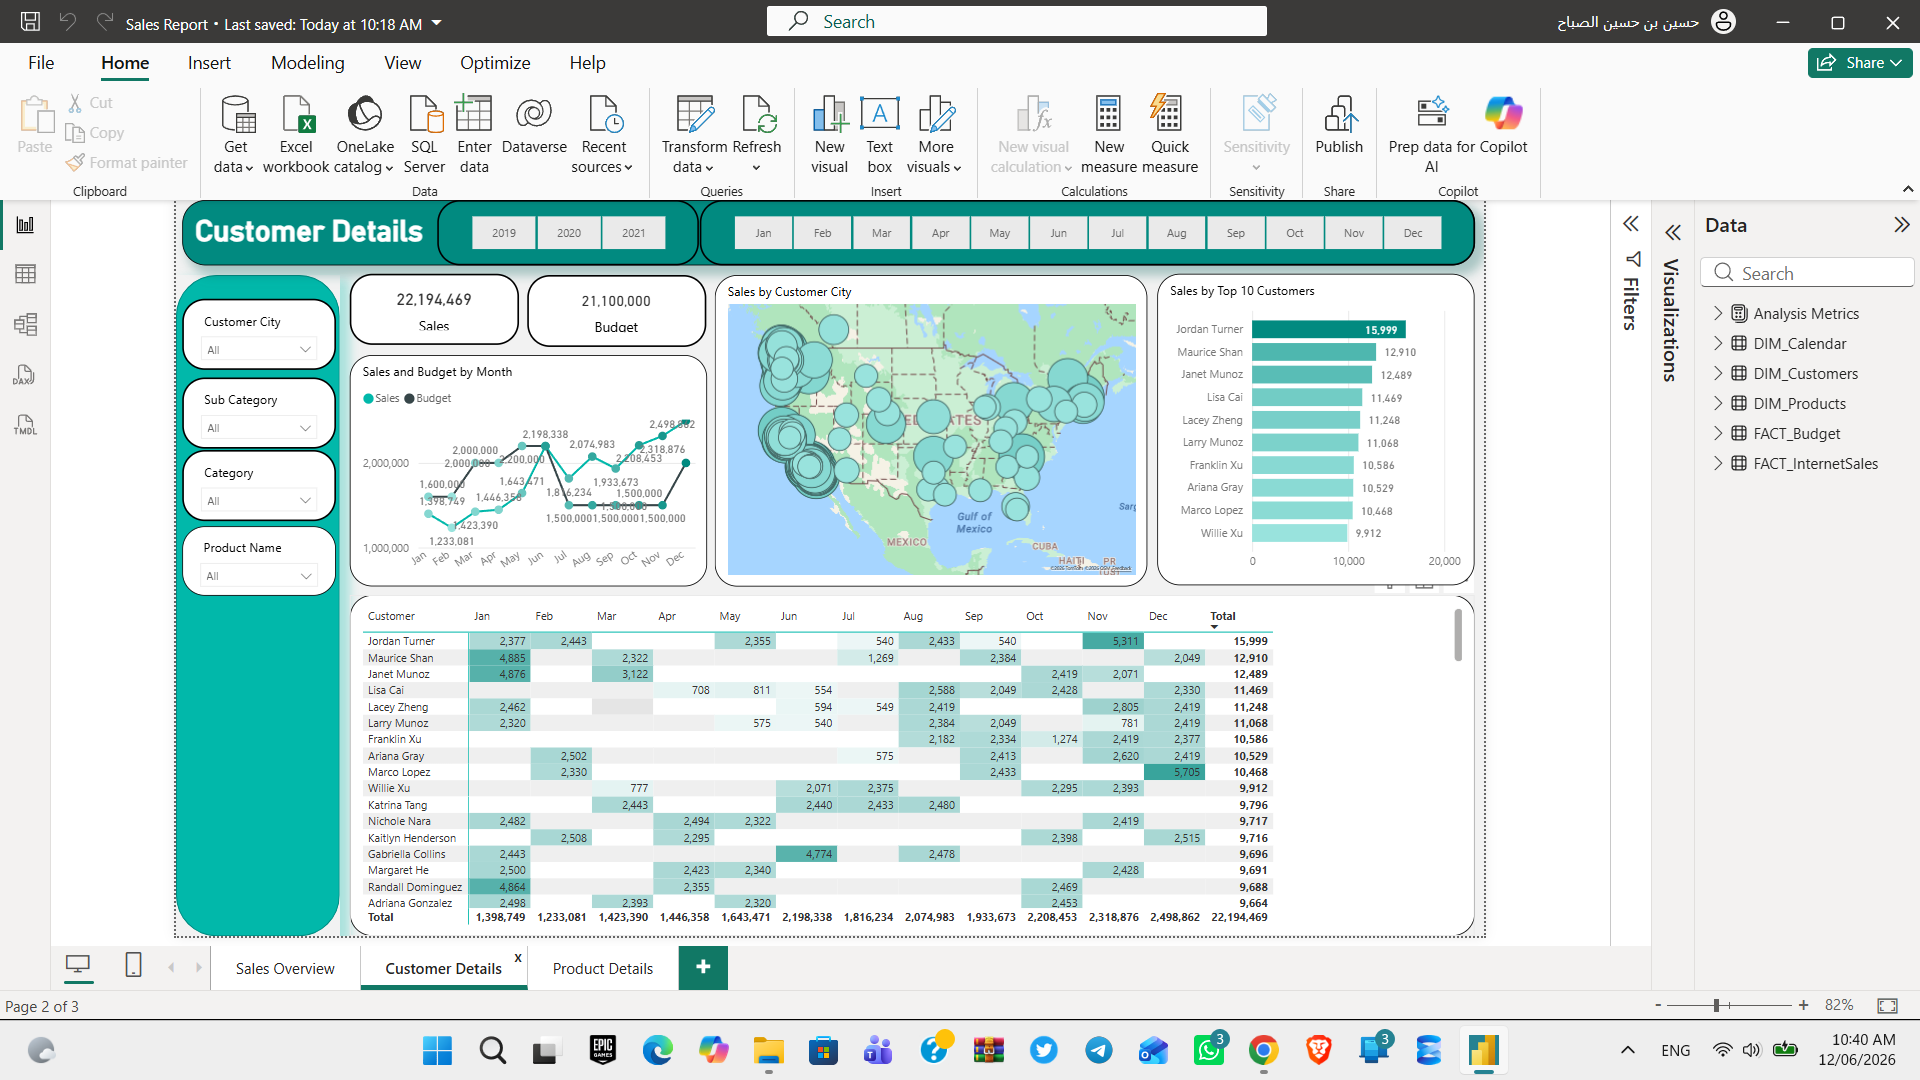

The dashboard page shown, as its layout file describes it:
{"tool":"powerbi","page":{"name":"Customer Details","canvas":[1280,720],"ordinal":1},"visuals":[{"type":"shape","box":[0,73.1,160.2,646.9],"z":0},{"type":"textbox","box":[5.6,0,1264.7,64],"z":1000},{"type":"slicer","fields":{"Values":["DIM_Calendar.Year"]},"box":[256,0,256,64],"z":2000},{"type":"slicer","fields":{"Values":["DIM_Calendar.MonthShort"]},"box":[512,0,758.3,64],"z":3000},{"type":"slicer","fields":{"Values":["DIM_Customers.Customer City"]},"box":[5.6,96,150.3,69.6],"z":4000},{"type":"slicer","fields":{"Values":["DIM_Products.Product Category"]},"box":[5.6,244.9,150.3,69.6],"z":5000},{"type":"slicer","fields":{"Values":["DIM_Products.Product Name"]},"box":[5.6,318.6,150.3,68.2],"z":6000},{"type":"slicer","fields":{"Values":["DIM_Products.Sub Category"]},"box":[5.6,173.9,150.3,69.6],"z":7000},{"type":"lineChart","fields":{"Category":["DIM_Calendar.MonthShort"],"Y":["Analysis Metrics.Sales","Analysis Metrics.Budget"]},"box":[169.7,151.7,349.2,226.8],"z":8000},{"type":"card","fields":{"Values":["Analysis Metrics.Sales"]},"box":[169.7,72.3,165.6,69.6],"z":9000},{"type":"azureMap","fields":{"Category":["DIM_Customers.Customer City"],"Size":["Analysis Metrics.Sales"]},"box":[527.3,72.8,423.5,304.5],"z":10000},{"type":"card","fields":{"Values":["Analysis Metrics.Budget"]},"box":[343.6,72.8,174.9,70.1],"z":11000},{"type":"pivotTable","fields":{"Rows":["DIM_Customers.Full Name"],"Columns":["DIM_Calendar.MonthShort"],"Values":["Analysis Metrics.Sales"]},"box":[169.7,386.8,1100.5,333.9],"z":12000},{"type":"barChart","title":"Sales by Top 10 Customers","fields":{"Category":["DIM_Customers.Full Name"],"Y":["Analysis Metrics.Sales"]},"box":[960,72.3,310.3,304.7],"z":13000}]}

Visuals, with their boxes on the page's 1280x720 design canvas (x1, y1, x2, y2). These are canvas units, not pixel positions in the 1920x1080 screenshot, which may show the page scaled, cropped or inside an application window:
shape: [left=0, top=73, right=160, bottom=720]
textbox: [left=6, top=0, right=1270, bottom=64]
slicer - DIM_Calendar.Year: [left=256, top=0, right=512, bottom=64]
slicer - DIM_Calendar.MonthShort: [left=512, top=0, right=1270, bottom=64]
slicer - DIM_Customers.Customer City: [left=6, top=96, right=156, bottom=166]
slicer - DIM_Products.Product Category: [left=6, top=245, right=156, bottom=314]
slicer - DIM_Products.Product Name: [left=6, top=319, right=156, bottom=387]
slicer - DIM_Products.Sub Category: [left=6, top=174, right=156, bottom=244]
lineChart - DIM_Calendar.MonthShort x Analysis Metrics.Sales: [left=170, top=152, right=519, bottom=378]
card - Analysis Metrics.Sales: [left=170, top=72, right=335, bottom=142]
azureMap - DIM_Customers.Customer City x Analysis Metrics.Sales: [left=527, top=73, right=951, bottom=377]
card - Analysis Metrics.Budget: [left=344, top=73, right=518, bottom=143]
pivotTable - DIM_Customers.Full Name x DIM_Calendar.MonthShort: [left=170, top=387, right=1270, bottom=721]
"Sales by Top 10 Customers" barChart: [left=960, top=72, right=1270, bottom=377]
